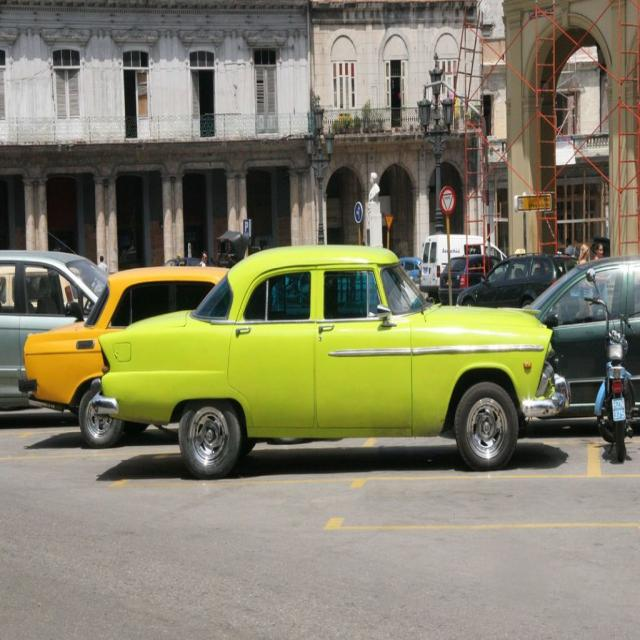Motorbikes: (591, 296, 637, 462)
Passenger Car: (91, 245, 571, 480), (19, 278, 112, 463)
